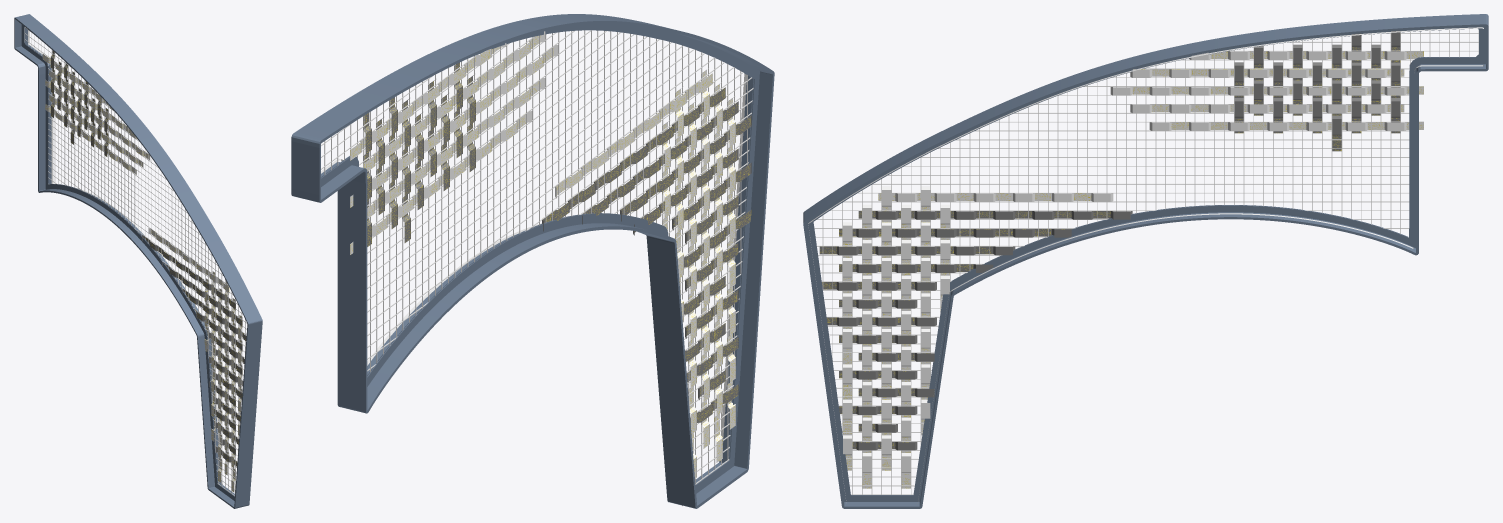
Rendered from model-wip-gate-1-only.dae.
3 renders of one model, left to right at view 1: azimuth 30°, elevation 25°; view 2: azimuth 150°, elevation 25°; view 3: azimuth 270°, elevation 25°, orthographic. The views are drawn at different scales.
Visible parts, largest first — view 1: group_37 (×2), group_36 (×2), arch-1-frame-1 (×2), light-rail-gate-1, Group_11; view 2: group_37 (×2), group_36 (×2), Group_11 (×13), arch-1-frame-1 (×2), light-rail-gate-1; view 3: group_37 (×2), arch-1-frame-1, Group_11 (×5), light-rail-gate-1.
Boxes of the visible parts, x1,y1,x2,y2 form: group_37 (×2): [14, 14, 262, 508]; group_36 (×2): [21, 24, 234, 500]; arch-1-frame-1 (×2): [25, 28, 218, 483]; light-rail-gate-1: [28, 30, 222, 484]; Group_11: [221, 273, 222, 486]; group_37 (×2): [291, 14, 774, 508]; group_36 (×2): [321, 24, 759, 493]; Group_11 (×13): [367, 39, 743, 479]; arch-1-frame-1 (×2): [321, 54, 753, 458]; light-rail-gate-1: [321, 73, 746, 461]; group_37 (×2): [803, 14, 1488, 508]; arch-1-frame-1: [806, 26, 1486, 501]; Group_11 (×5): [843, 121, 1409, 202]; light-rail-gate-1: [808, 27, 1483, 503].
Size of the model in its own units: 10 by 280 by 218.
